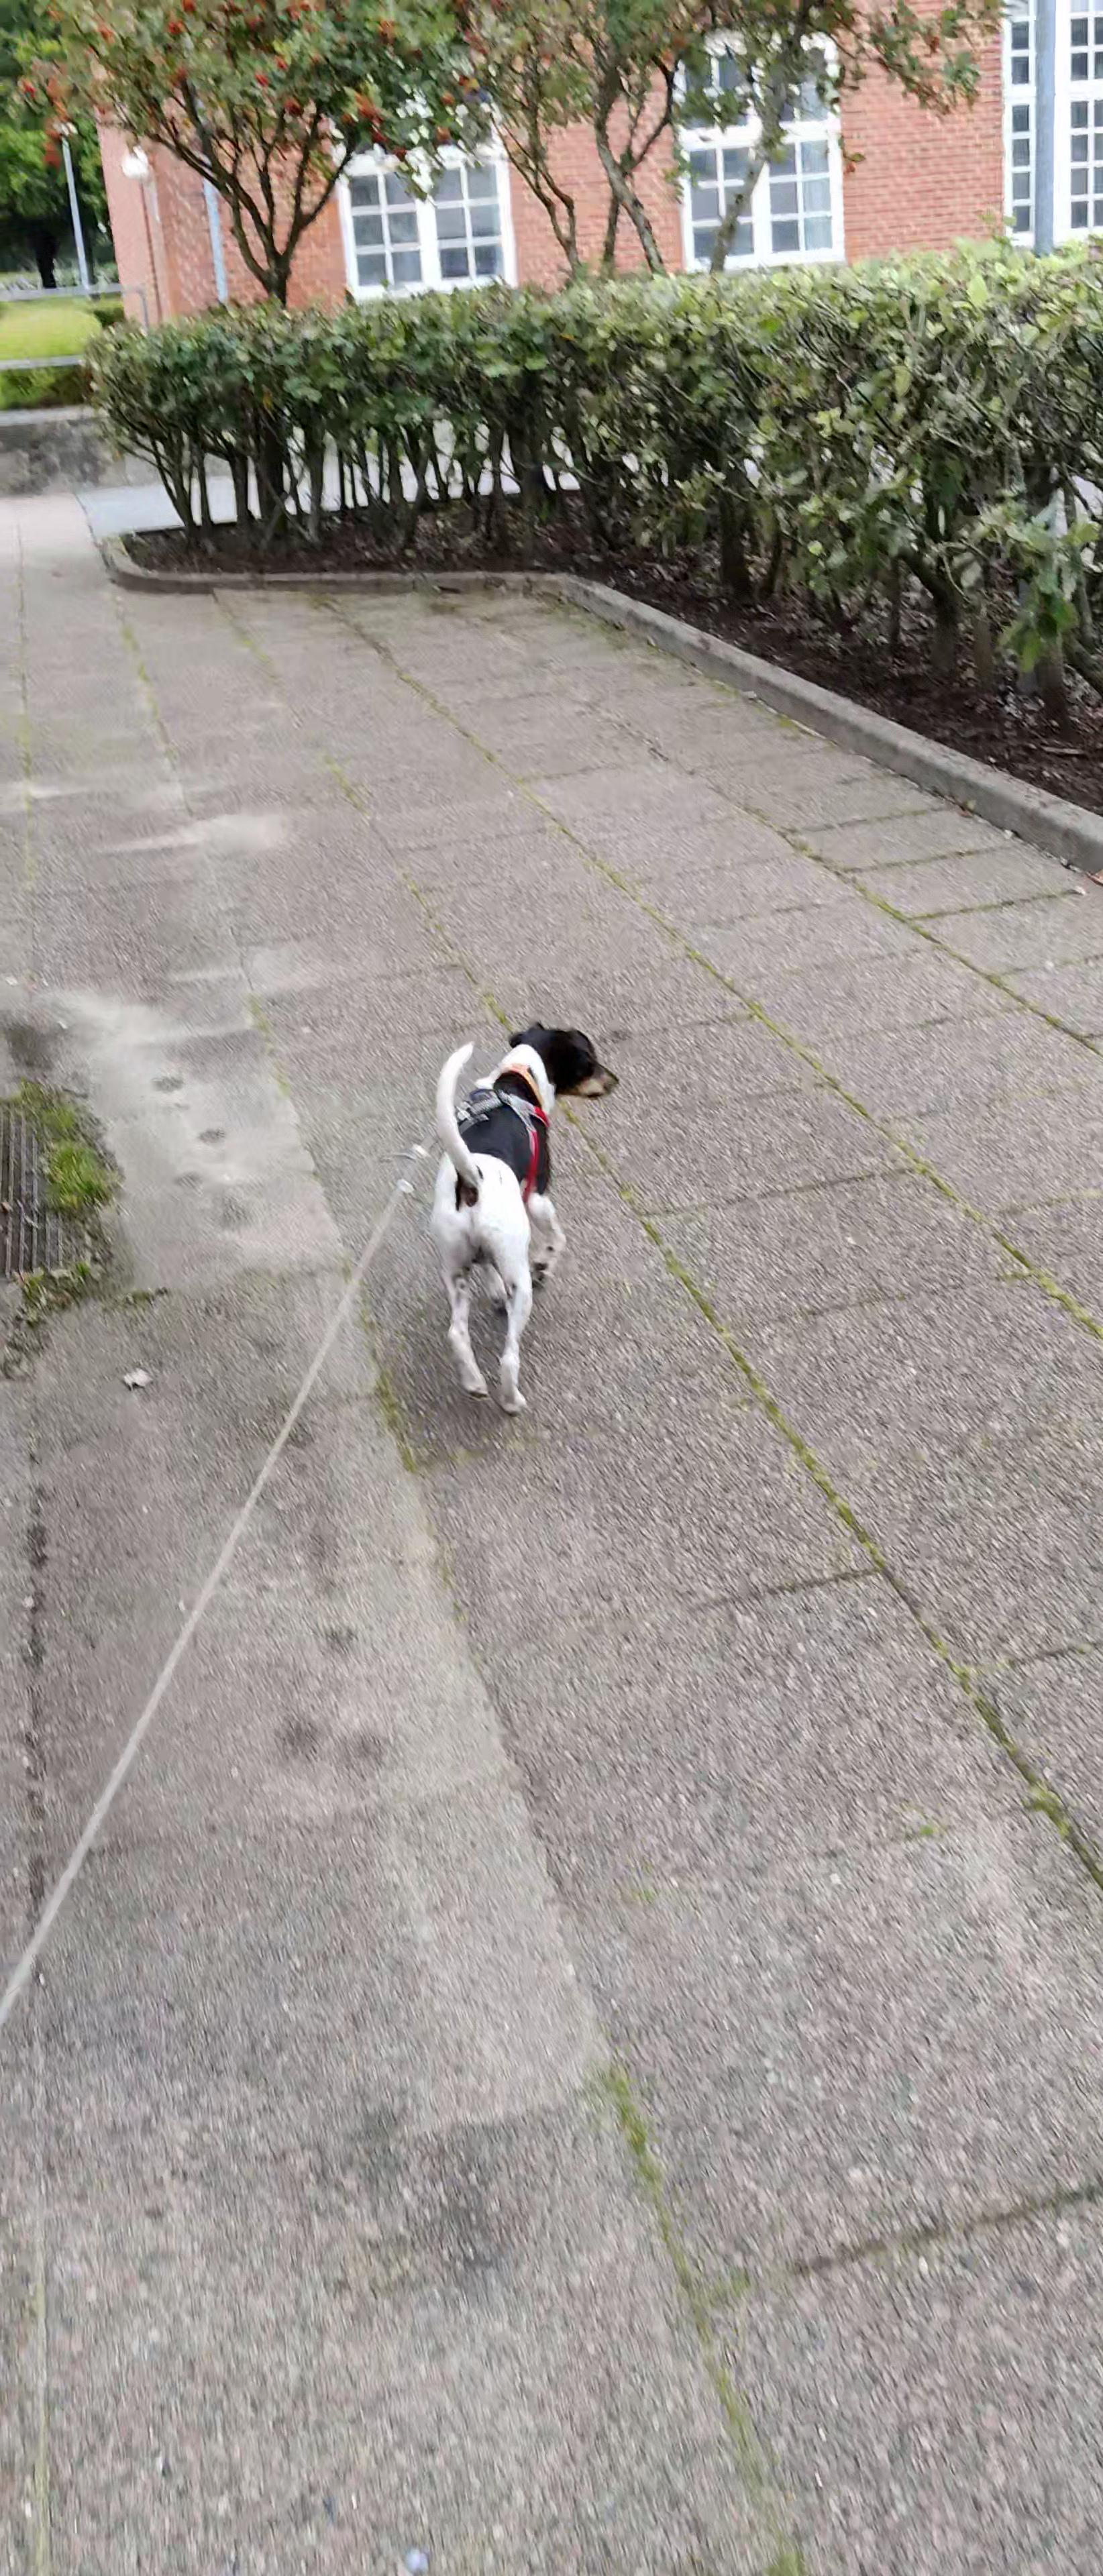Dog: (421, 1002, 623, 1416)
